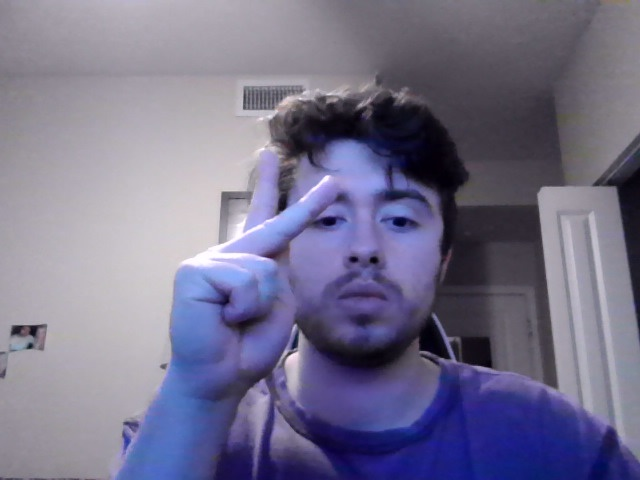k: (168, 149, 339, 411)
